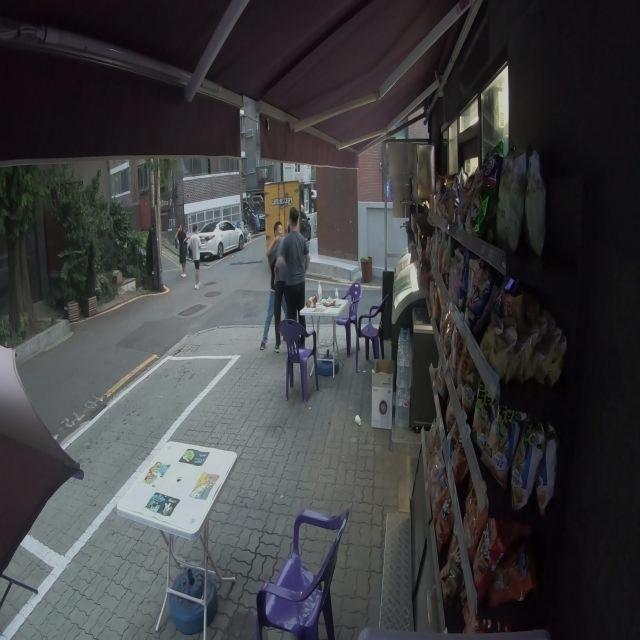fight: (263, 210, 311, 355)
non-fight: (186, 227, 203, 290)
